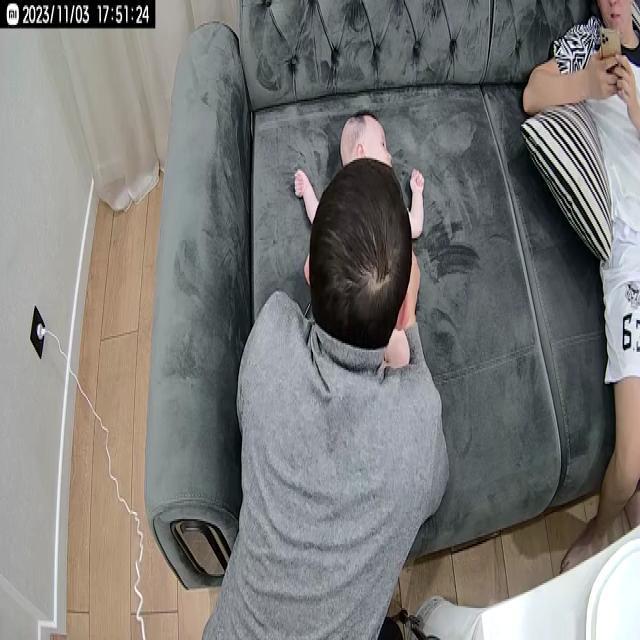baby: (287, 106, 428, 245)
